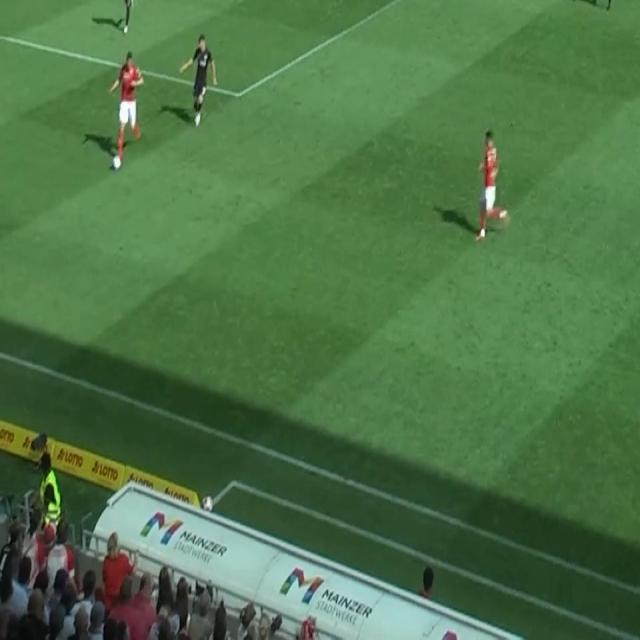ball: (112, 154, 121, 171)
